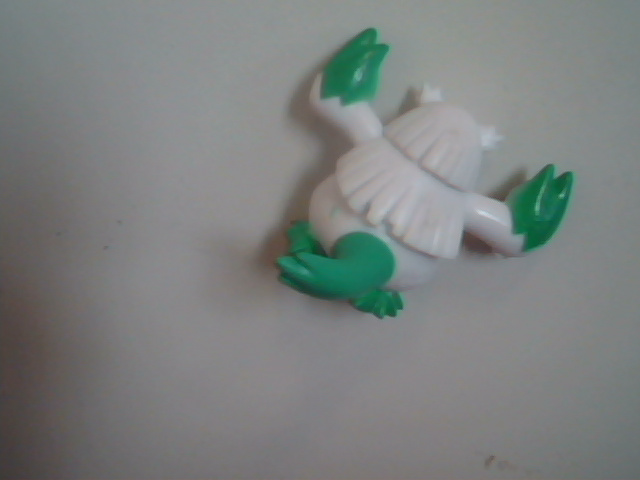abomasnow: (211, 21, 580, 359)
